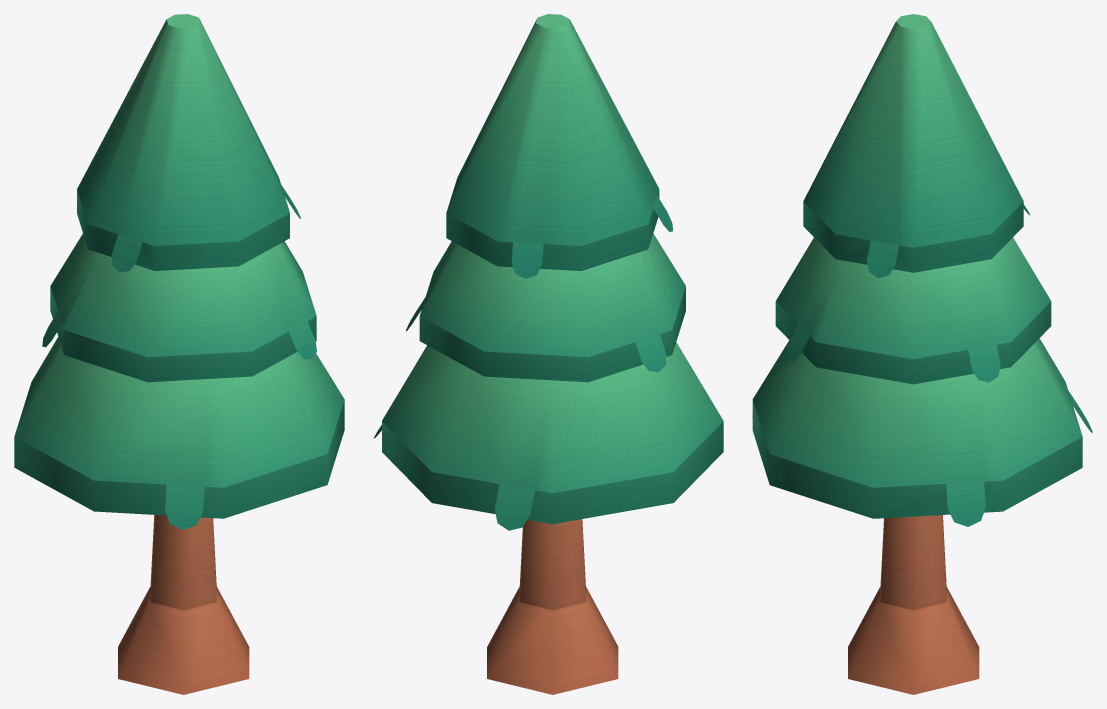
The model's file is tree-large.glb.
3 views of the same model, side by side, from view 1: azimuth 30°, elevation 25°; view 2: azimuth 150°, elevation 25°; view 3: azimuth 270°, elevation 25° (orthographic).
Parts seen in each view (by area): view 1: tree-large; view 2: tree-large; view 3: tree-large.
Part boxes in pixels (left/top/right/bottom): tree-large: left=14, top=14, right=344, bottom=694; tree-large: left=373, top=14, right=723, bottom=694; tree-large: left=752, top=14, right=1092, bottom=694.
Bounding box in the file's own units: 0.8887 × 1.85 × 0.8898.
Materials: 1 (1 with a texture image).
